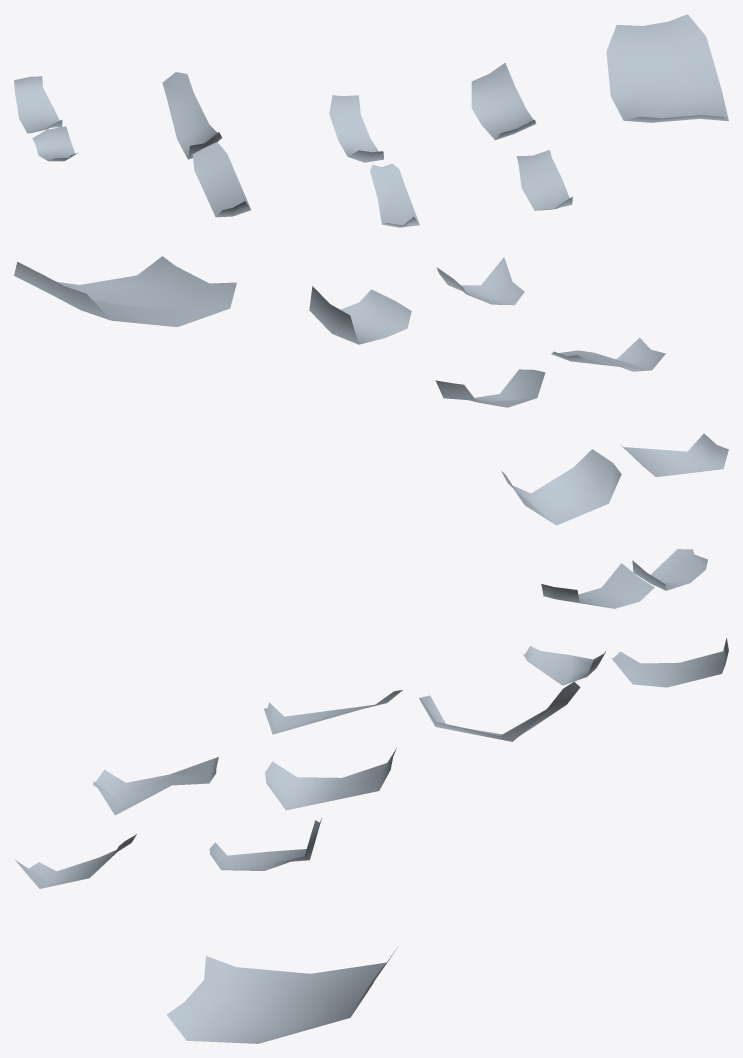
The model's file is plantar-interphalangeal-ligaments-r.glb.
3 renders of one model, top to bottom at view 1: azimuth 30°, elevation 25°; view 2: azimuth 150°, elevation 25°; view 3: azimuth 270°, elevation 25°, orthographic. The views are drawn at different scales.
Visible parts, largest first — view 1: Plantar interphalangeal ligaments.r; view 2: Plantar interphalangeal ligaments.r; view 3: Plantar interphalangeal ligaments.r.
Part boxes in pixels (box(x1,y1,x2,y2)): Plantar interphalangeal ligaments.r: box(14, 14, 728, 227); Plantar interphalangeal ligaments.r: box(14, 256, 728, 608); Plantar interphalangeal ligaments.r: box(14, 638, 728, 1043).
Bounding box in the file's own units: 0.0735 × 0.00891 × 0.0544.
